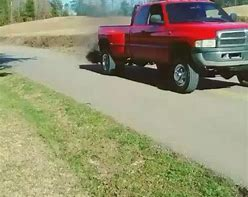smoke: (84, 46, 104, 64)
